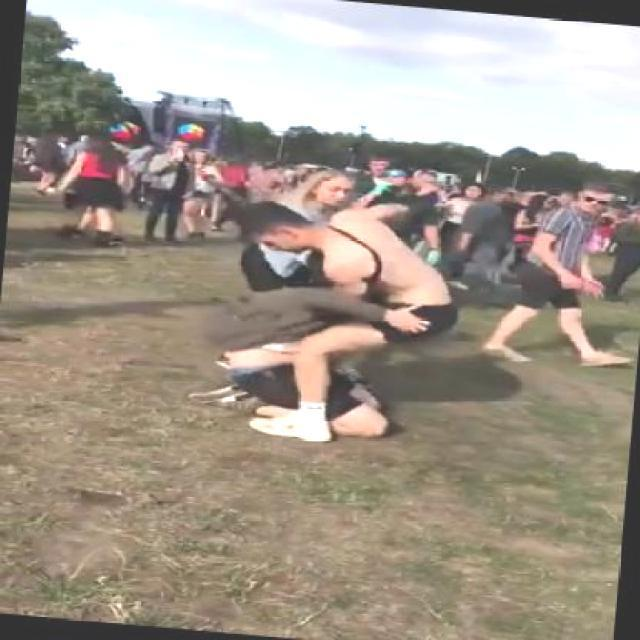fight: (170, 184, 467, 450)
